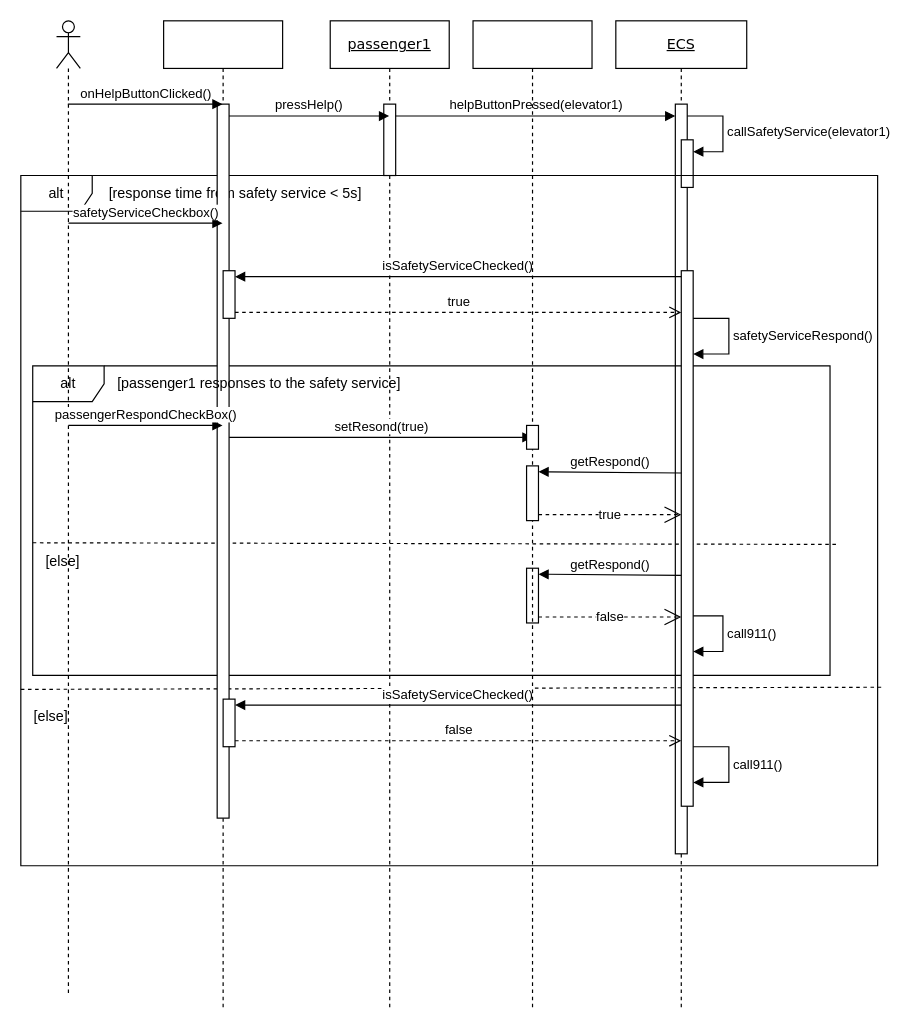
Image size: 912x1029. Some labels were removed from this diagram. The shapes that lost their labels are listed below. From the top down, each one's box as (x1, y1, x2, y2) in pixels, then its label:
(162, 20, 283, 1009): :MainWindow
(472, 20, 592, 1009): elevator1
